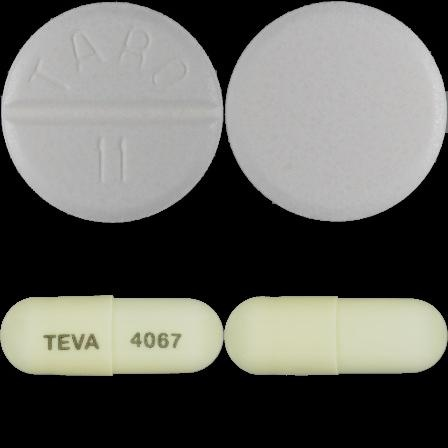64725-4005: (0, 0, 224, 224)
